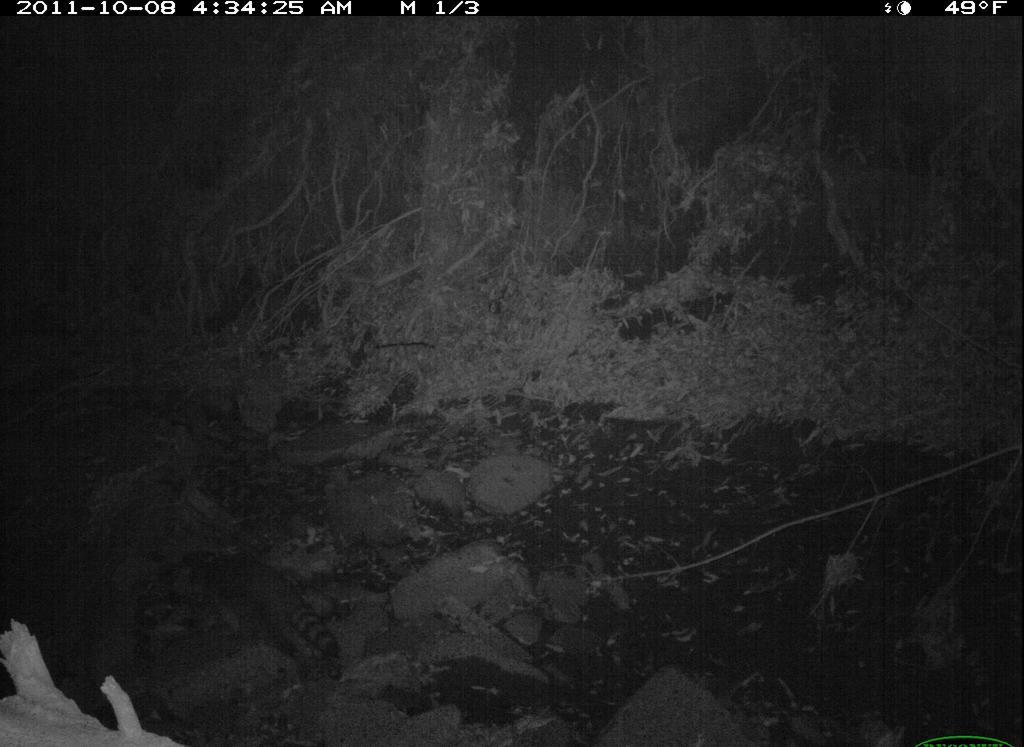raccoon: (159, 519, 358, 681)
